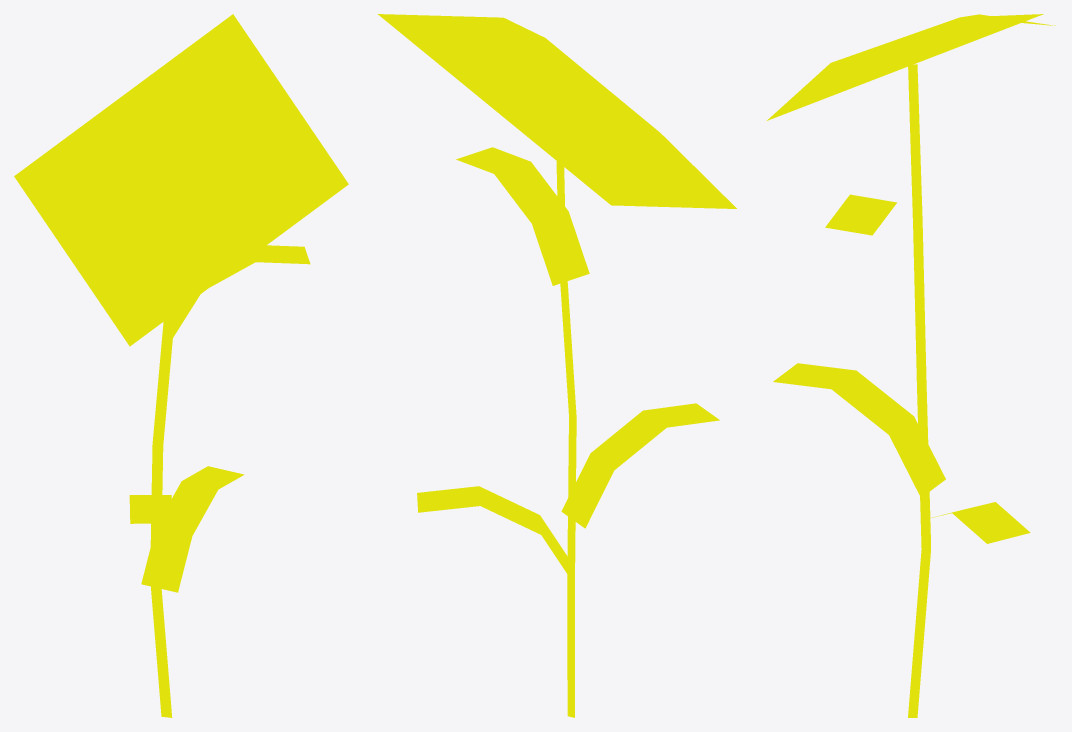
The model's file is Foliage_Flowers_Blue_Flowers_BlueFlower_High.glb.
3 views of the same model, side by side, from view 1: azimuth 30°, elevation 25°; view 2: azimuth 150°, elevation 25°; view 3: azimuth 270°, elevation 25° (orthographic). The views are drawn at different scales.
Parts seen in each view (by area): view 1: Blue.High.LOD.003; view 2: Blue.High.LOD.003; view 3: Blue.High.LOD.003.
Boxes of the visible parts, bbox=[...] form: Blue.High.LOD.003: bbox=[14, 14, 348, 717]; Blue.High.LOD.003: bbox=[378, 14, 736, 717]; Blue.High.LOD.003: bbox=[767, 14, 1055, 717].
Size of the model in its own units: 0.0494 by 0.1391 by 0.0475.
1 material, 1 textured.
